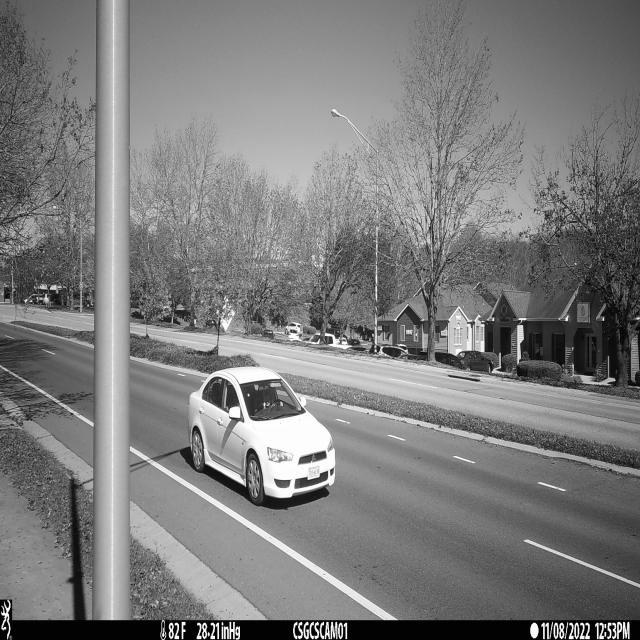Sedan: (188, 366, 336, 506)
